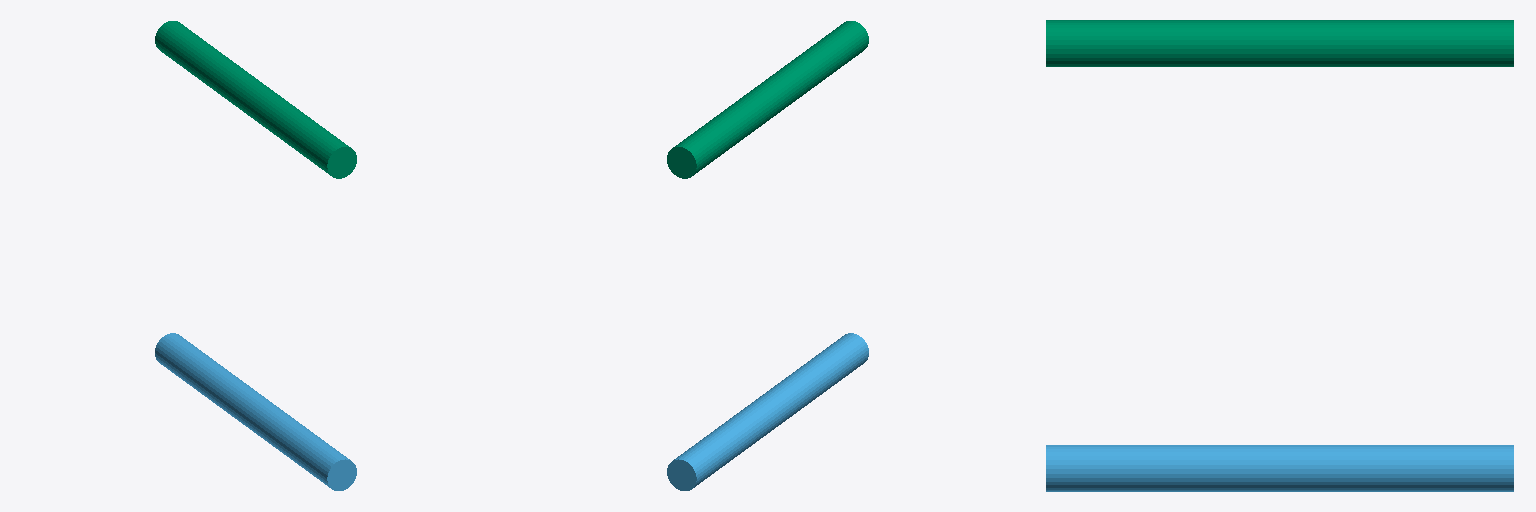
robot.urdf — pendulum:
<?xml version="1.0" ?>
<!--
  Inline 2-link planar pendulum URDF for urdf_exporter tests.
  No mesh files — purely geometric/inertial primitives.
  Joint1: revolute about Z (shoulder)
  Joint2: revolute about Z (elbow), offset by 1m along Z from joint1
-->
<robot name="pendulum">
  <link name="world"/>

  <!-- ============================================================ -->
  <!-- Joint 1: shoulder, attached to world                         -->
  <!-- ============================================================ -->
  <joint name="joint1" type="revolute">
    <origin xyz="0 0 0" rpy="0 0 0"/>
    <parent link="world"/>
    <child link="link1"/>
    <axis xyz="0 0 1"/>
    <limit lower="-3.14159" upper="3.14159" effort="100" velocity="10"/>
    <dynamics damping="0.1" friction="0.01"/>
  </joint>

  <link name="link1">
    <inertial>
      <mass value="1.0"/>
      <origin xyz="0 0 0.5" rpy="0 0 0"/>
      <inertia ixx="0.1" ixy="0" ixz="0" iyy="0.1" iyz="0" izz="0.01"/>
    </inertial>
    <visual>
      <geometry>
        <cylinder length="1.0" radius="0.05"/>
      </geometry>
      <origin xyz="0 0 0.5" rpy="1.5708 0 0"/>
    </visual>
  </link>

  <!-- ============================================================ -->
  <!-- Joint 2: elbow, attached to link1                            -->
  <!-- ============================================================ -->
  <joint name="joint2" type="revolute">
    <origin xyz="0 0 1.0" rpy="0 0 0"/>
    <parent link="link1"/>
    <child link="link2"/>
    <axis xyz="0 0 1"/>
    <limit lower="-3.14159" upper="3.14159" effort="50" velocity="10"/>
    <dynamics damping="0.05"/>
  </joint>

  <link name="link2">
    <inertial>
      <mass value="1.0"/>
      <origin xyz="0 0 0.5" rpy="0 0 0"/>
      <inertia ixx="0.1" ixy="0" ixz="0" iyy="0.1" iyz="0" izz="0.01"/>
    </inertial>
    <visual>
      <geometry>
        <cylinder length="1.0" radius="0.05"/>
      </geometry>
      <origin xyz="0 0 0.5" rpy="1.5708 0 0"/>
    </visual>
  </link>
</robot>

--- What the picture shows (computed from the rendered views, not written in the file) ---
Views: 3 orthographic renders of the robot side by side, from view 1: azimuth 30°, elevation 25°; view 2: azimuth 150°, elevation 25°; view 3: azimuth 270°, elevation 25°.
Model pendulum with 3 links and 2 joints (2 revolute), rooted at world, posed all joints at 0.
Links seen in each view (by area): view 1: link1, link2; view 2: link1, link2; view 3: link1, link2.
Link boxes in pixels (<box>): link1: <box>155,333,356,490</box>; link2: <box>155,21,356,178</box>; link1: <box>667,333,868,490</box>; link2: <box>667,21,868,178</box>; link1: <box>1046,445,1513,491</box>; link2: <box>1046,20,1513,66</box>.
Bounding box of the posed robot: 0.1 × 1 × 1.1 m (x, y, z).
Geometry: primitives only (box / cylinder / sphere), no mesh files.
